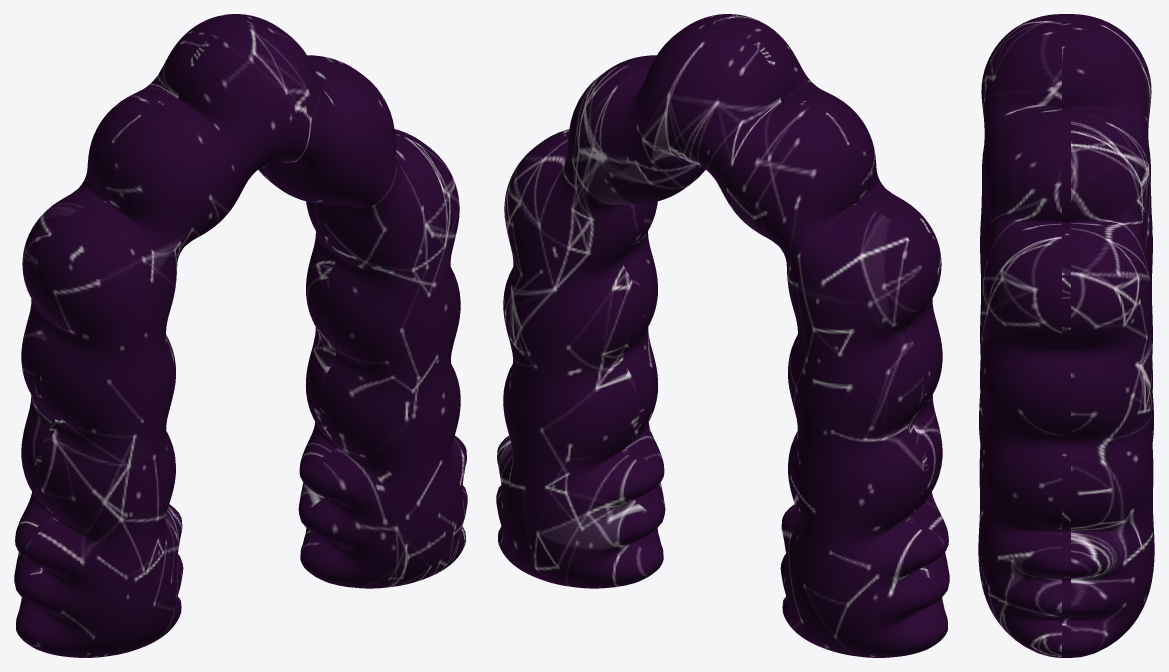
Rendered from textured-dino.glb.
3 renders of one model, left to right at view 1: azimuth 30°, elevation 25°; view 2: azimuth 150°, elevation 25°; view 3: azimuth 270°, elevation 25°, orthographic. The views are drawn at different scales.
Parts seen in each view (by area): view 1: groupNumber_0; view 2: groupNumber_0; view 3: groupNumber_0.
Boxes of the visible parts, left/top/right/bottom form: groupNumber_0: left=14, top=14, right=467, bottom=657; groupNumber_0: left=496, top=14, right=949, bottom=657; groupNumber_0: left=978, top=14, right=1154, bottom=657.
Size of the model in its own units: 0.0203 by 0.026 by 0.00749.
Materials: 1 (1 with a texture image).
